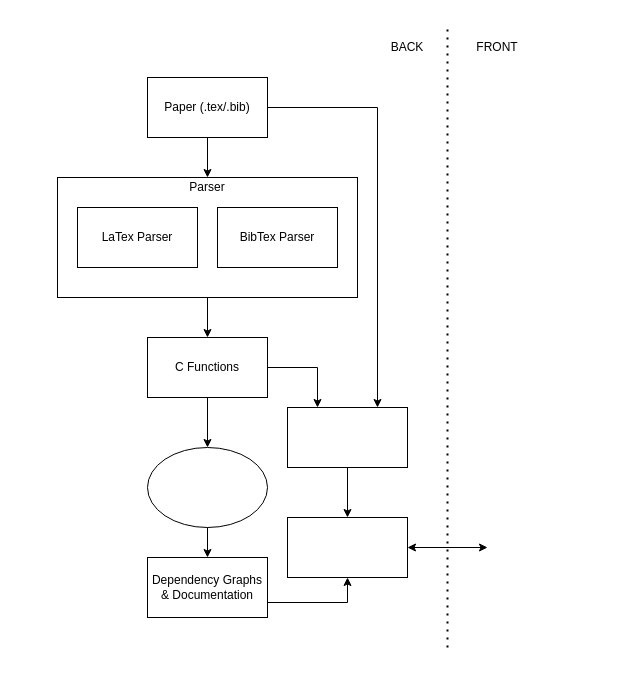
The diagram is 634 pixels wide and 674 high, and some of its shapes have lost their labels. The shapes that lost their labels are listed below. From the top down, each one's centre as x and y in pixels, then its label:
At point 347,437: "Database".
At point 207,487: "Doxygen".
At point 347,547: "Server".
